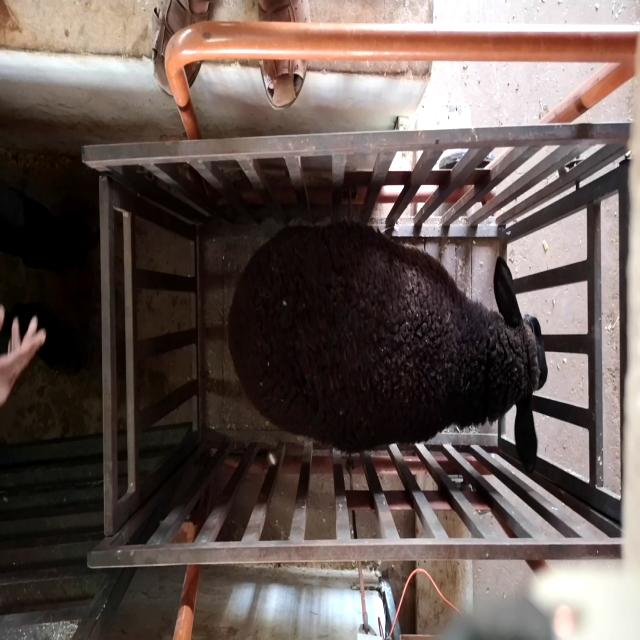sheep: (225, 220, 549, 476)
